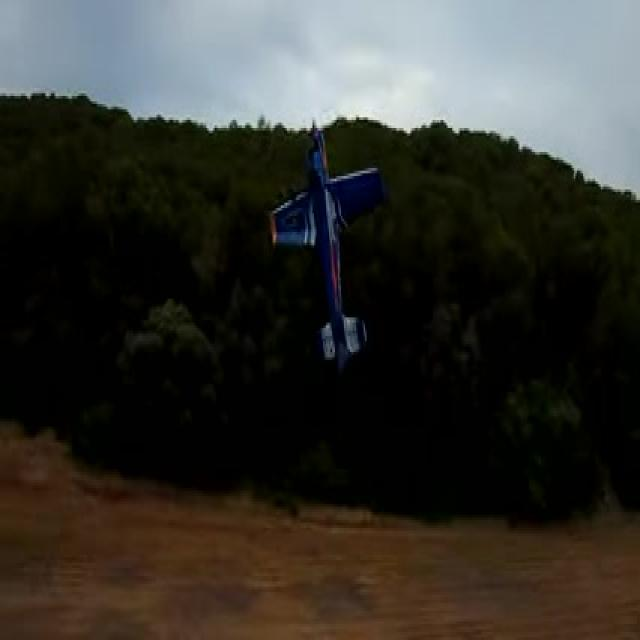iha: (293, 120, 347, 369)
